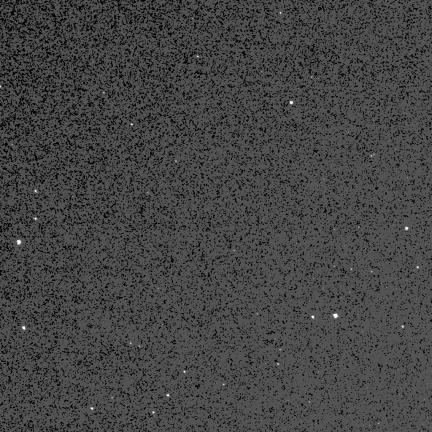blob: (333, 314, 337, 318), (22, 326, 26, 330), (17, 240, 21, 244), (311, 316, 315, 320), (91, 407, 94, 411), (34, 218, 38, 221), (35, 190, 38, 193), (402, 326, 405, 329), (152, 411, 155, 414), (167, 394, 170, 397), (405, 227, 408, 230), (290, 101, 293, 104), (184, 371, 187, 373), (131, 124, 134, 126), (280, 12, 282, 15), (417, 266, 419, 269), (223, 384, 225, 386)
